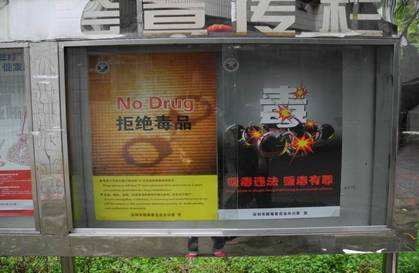bill: (88, 50, 218, 221), (221, 45, 342, 219)
